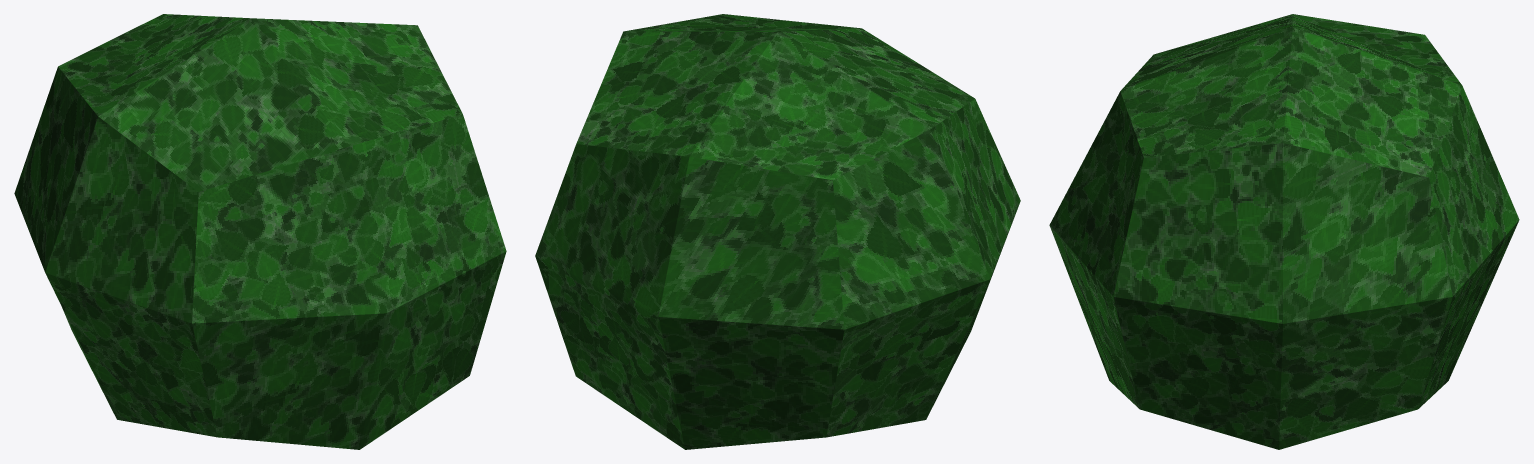
The model's file is bush_1.glb.
3 views of the same model, side by side, from view 1: azimuth 30°, elevation 25°; view 2: azimuth 150°, elevation 25°; view 3: azimuth 270°, elevation 25° (orthographic). The views are drawn at different scales.
Visible parts, largest first — view 1: Cube; view 2: Cube; view 3: Cube.
Part boxes in pixels (x1,y1,x2,y2): Cube: (14,14,506,449); Cube: (535,14,1020,449); Cube: (1049,14,1519,449).
Bounding box in the file's own units: 1.7 × 1.38 × 1.69.
Materials: 1 (1 with a texture image).
